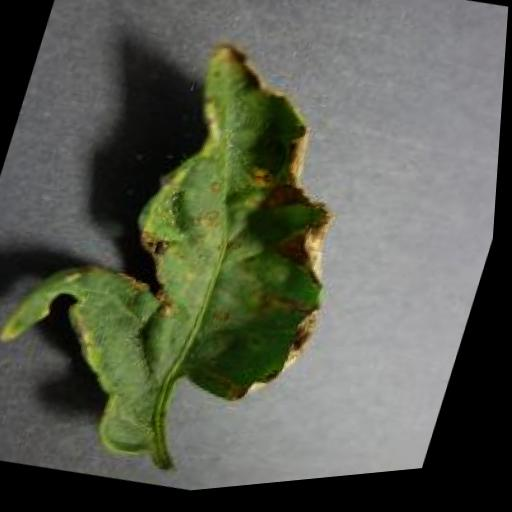Bacterial Spot: (0, 0, 406, 509)
